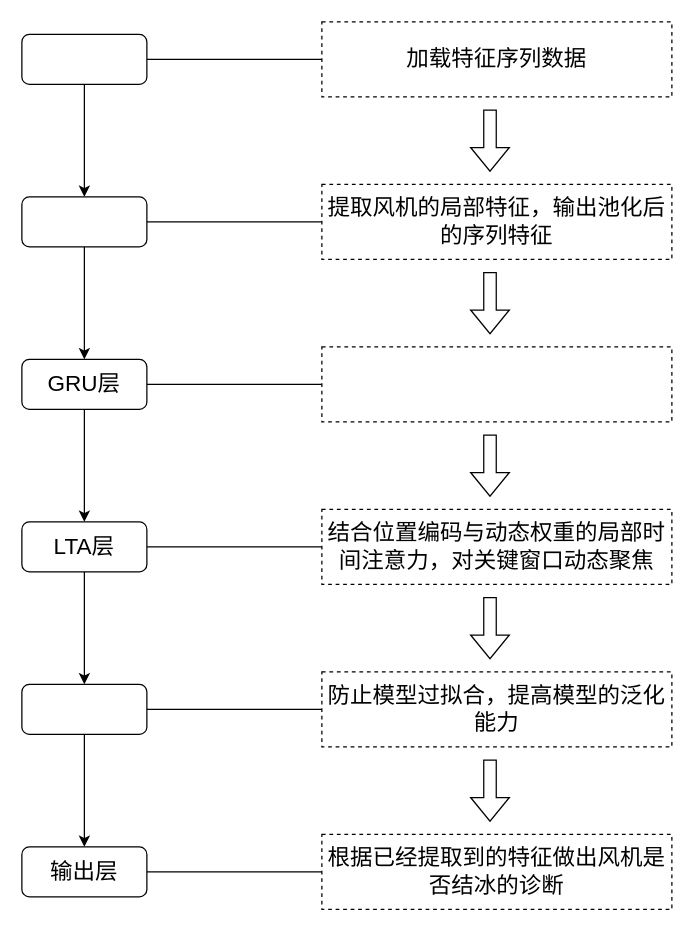
The diagram is 694 pixels wide and 931 high, and some of its shapes have lost their labels. Here are the shapes that lost their labels. From the top down, the box of each, then its label:
(21, 33, 147, 84): 输入层
(21, 196, 147, 247): CNN层
(321, 346, 672, 422): 捕捉风机叶片结冰检测结冰中的长期时间依赖关系
(21, 683, 147, 734): Dropout层
